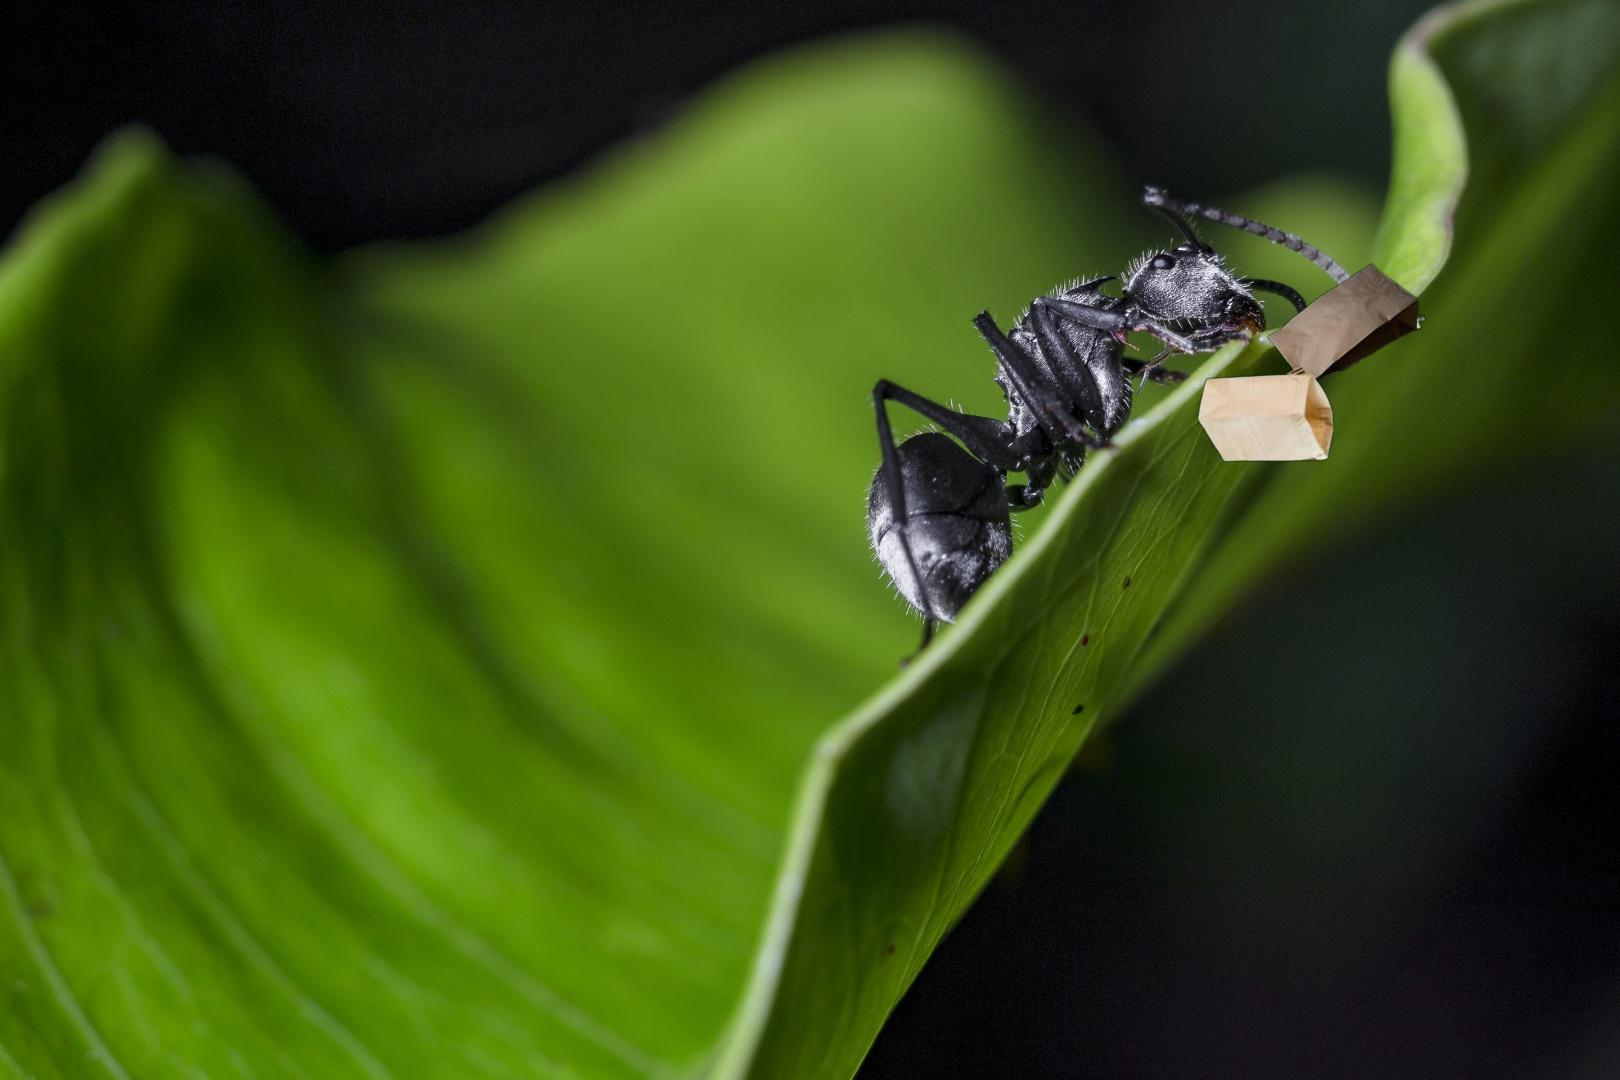paper-bag: (1195, 262, 1430, 465)
